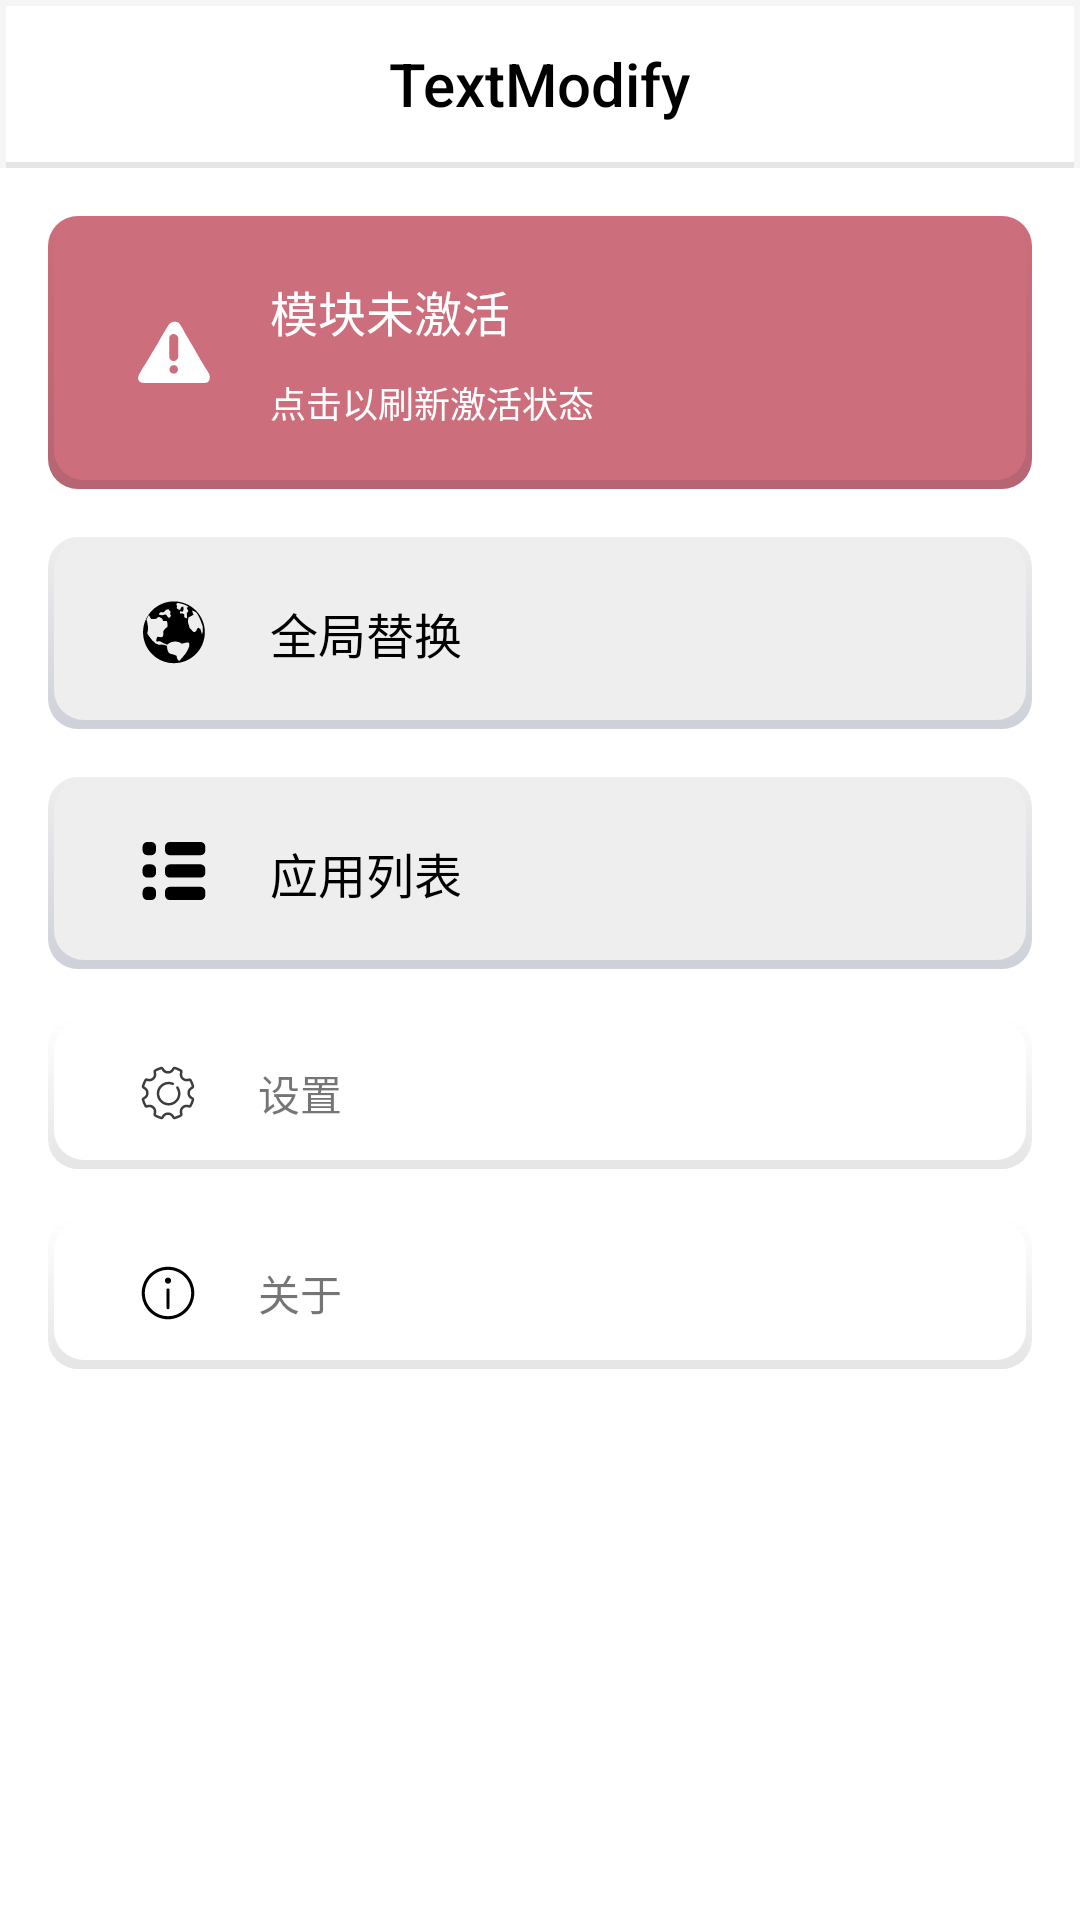

Named icons in this screenshot (1080×1920) and their centers, (x=x, y=y):
about: (x=168, y=1293)
global method: (x=174, y=632)
setting: (x=168, y=1093)
